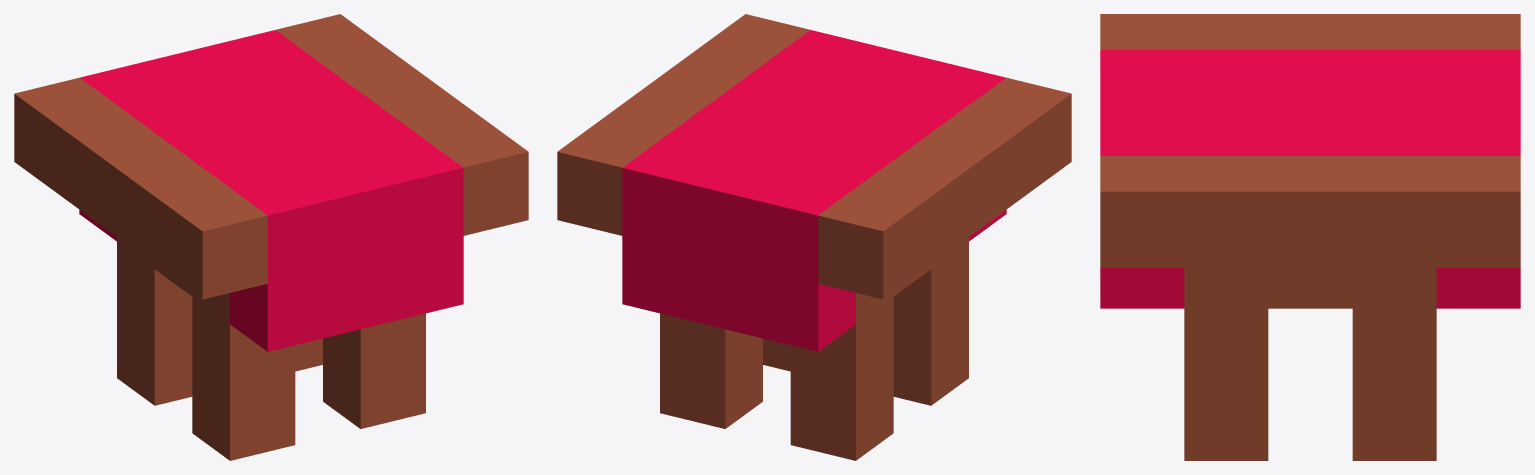
Rendered from small_bench_a_red.obj.
3 views of the same model, side by side, from view 1: azimuth 30°, elevation 25°; view 2: azimuth 150°, elevation 25°; view 3: azimuth 270°, elevation 25° (orthographic). The views are drawn at different scales.
Size of the model in its own units: 0.5 by 0.4 by 0.5.
Materials: 1 (1 with a texture image).
